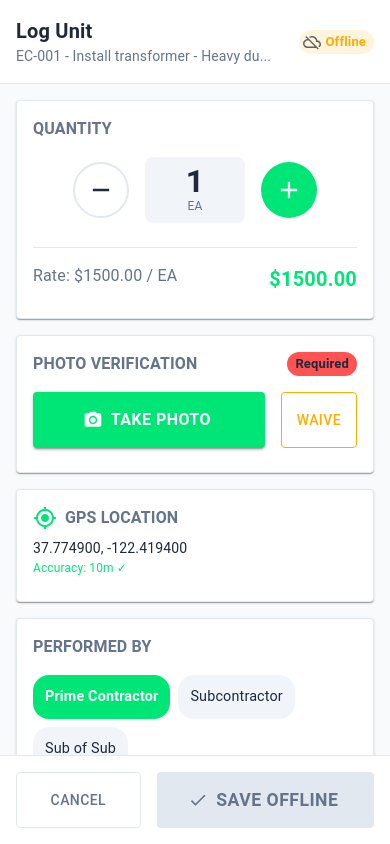
Test case: UnitEntryForm Component › Quantity Section › should not go below 0
The image size is (390, 844).
Initial value is 1
Click the button named "Decrease quantity": (101, 190) [73, 162, 129, 218]
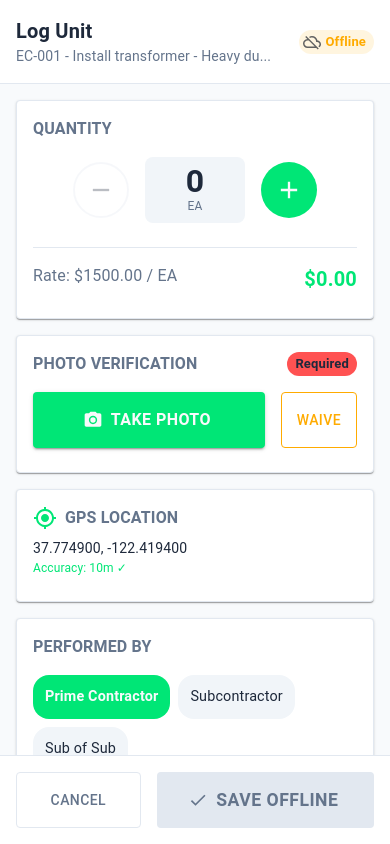
Expected: the text "0" is shown, [186, 162, 204, 200]
Expected: the button named "Decrease quantity" is disabled, [73, 162, 129, 218]
